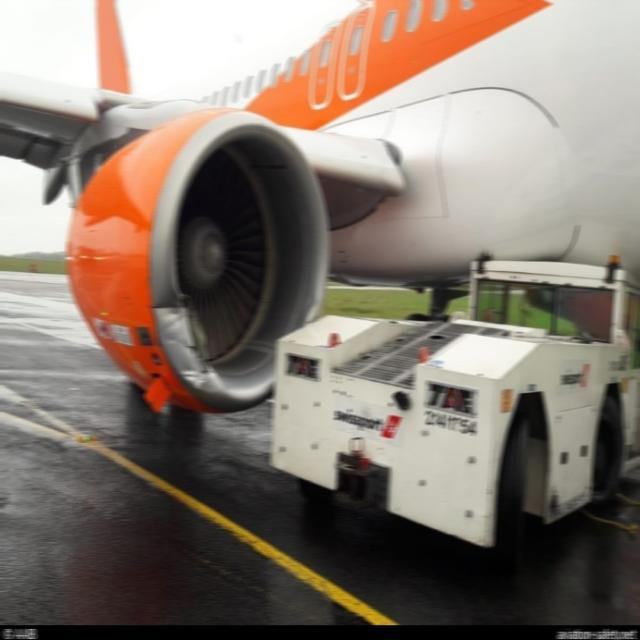crack: (173, 296, 215, 375)
dent: (157, 300, 182, 332), (178, 371, 210, 388), (304, 298, 322, 328)
